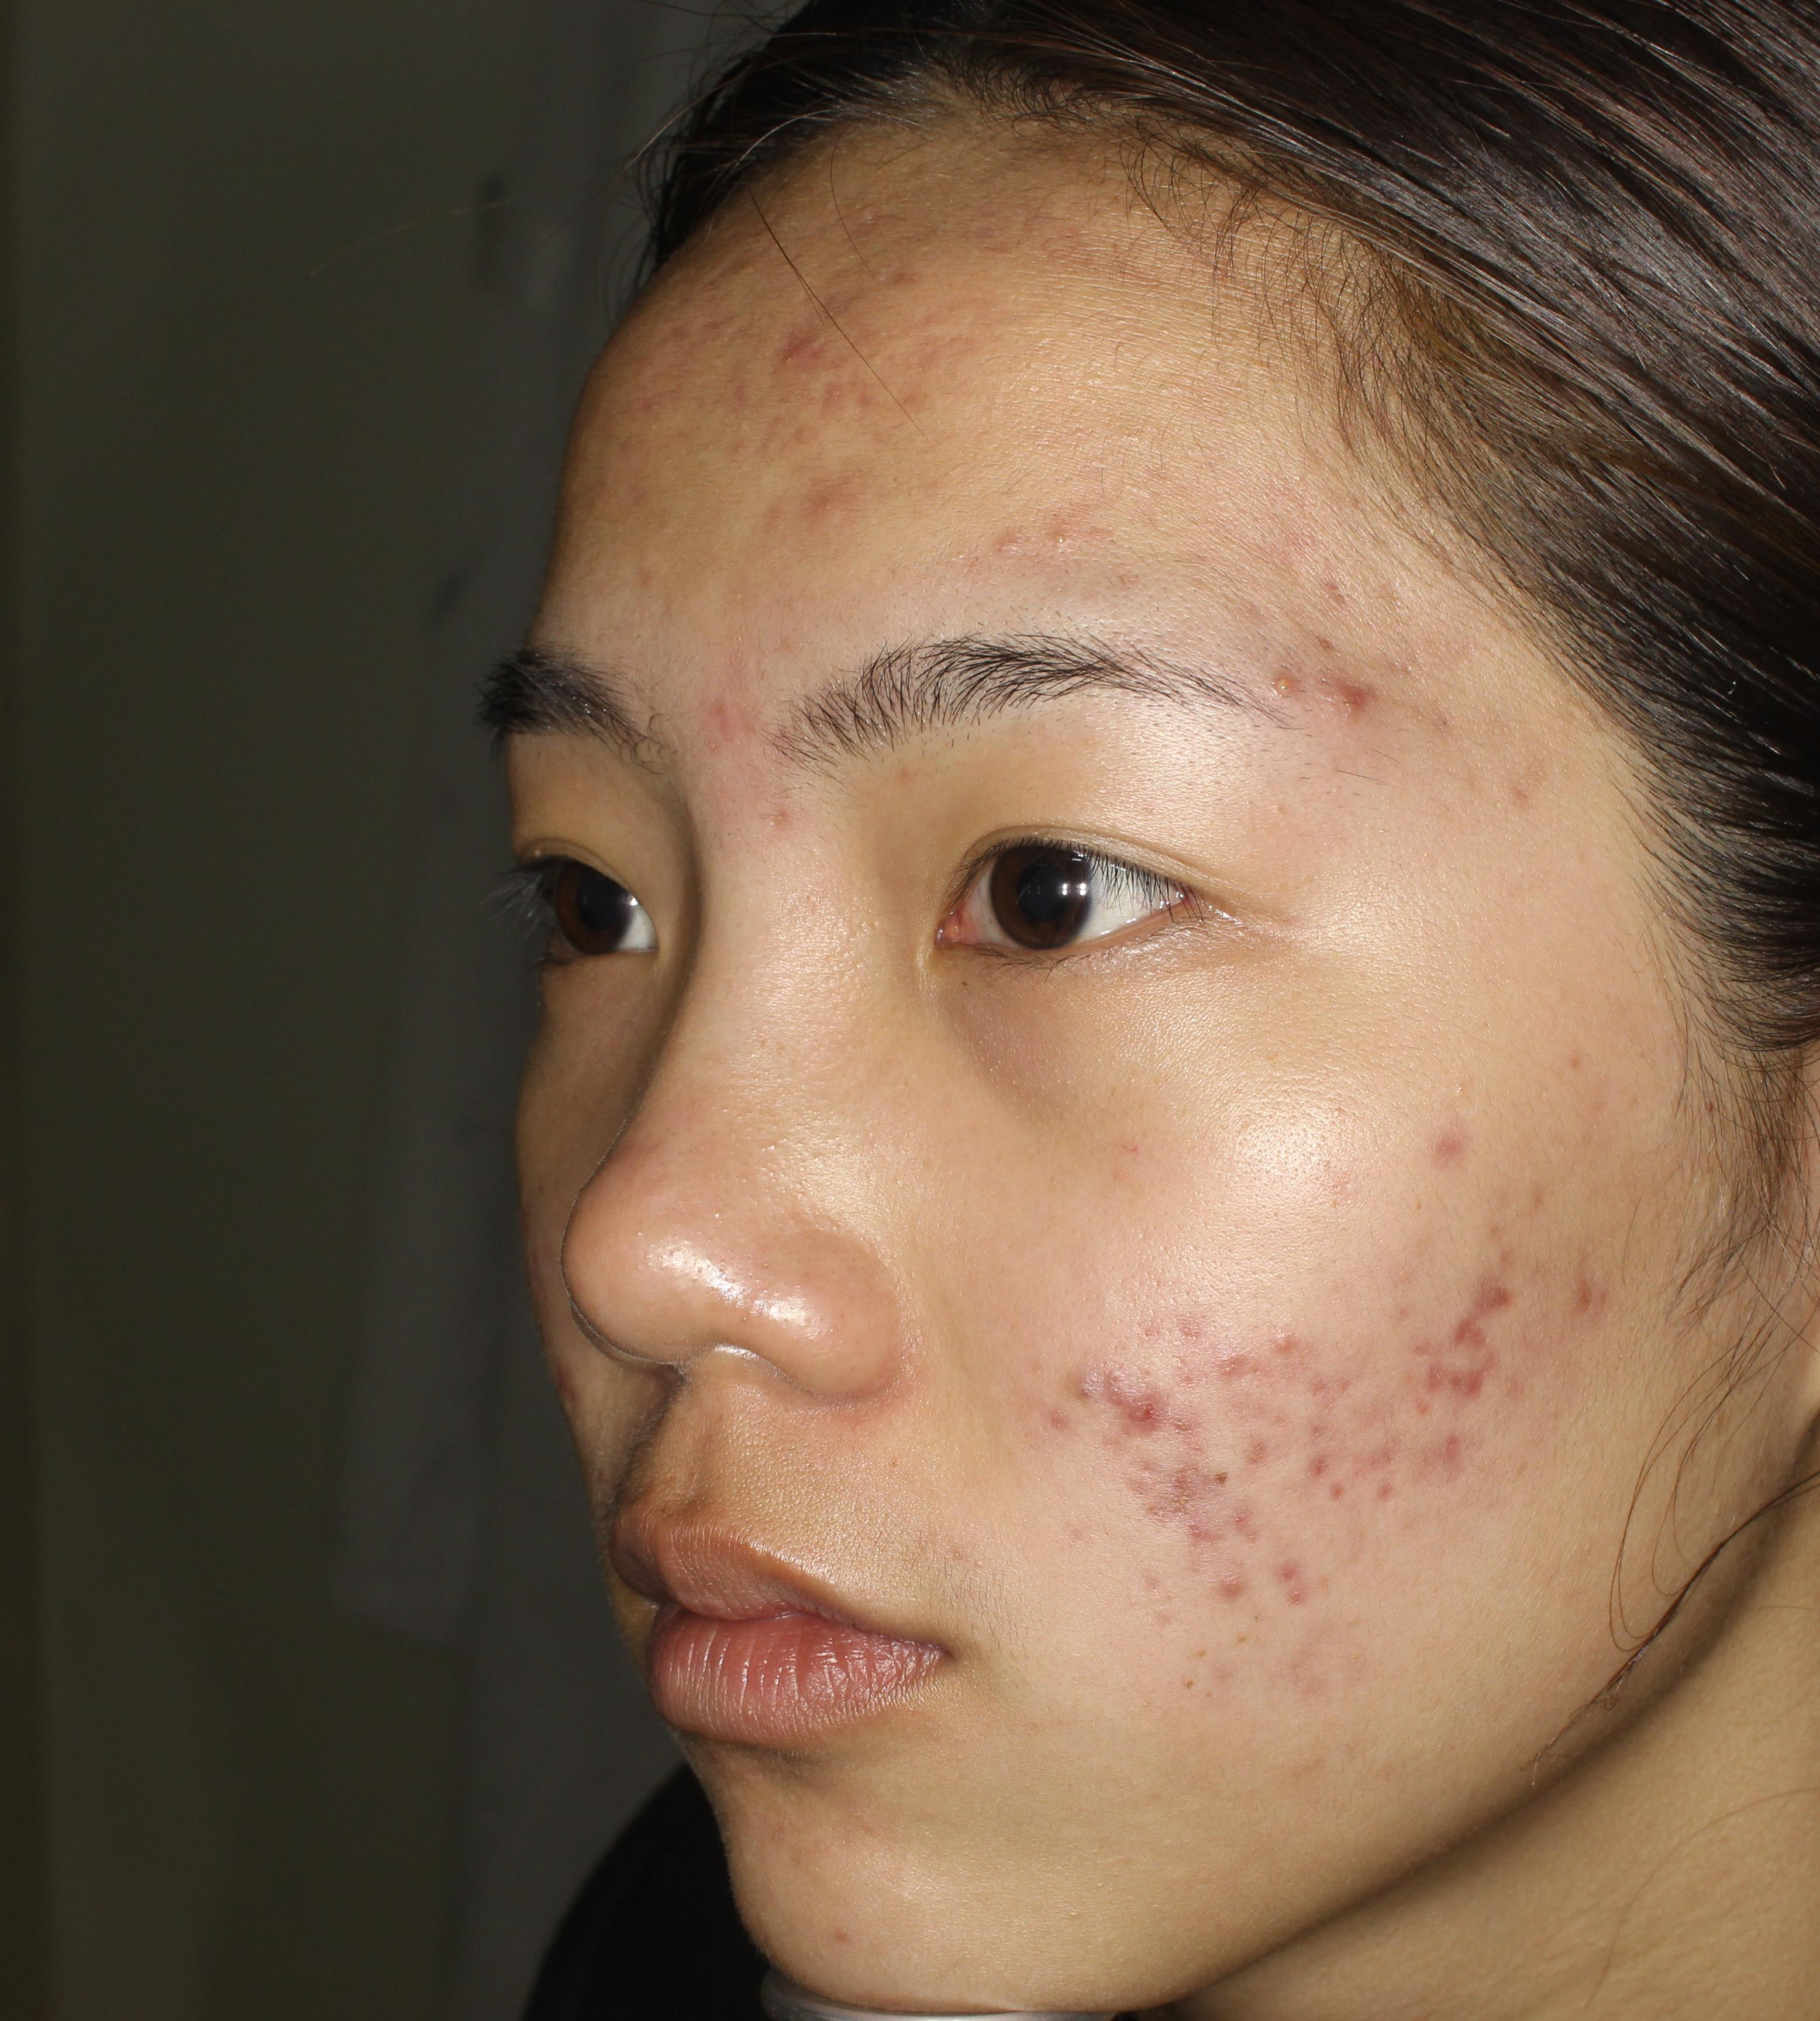fore: (1251, 1528, 1346, 1629), (1094, 1366, 1175, 1442), (1274, 1320, 1337, 1406), (1395, 1118, 1470, 1190), (1412, 1396, 1470, 1487), (1337, 1428, 1409, 1500), (1490, 1262, 1556, 1338), (1221, 1426, 1293, 1491), (1202, 1338, 1268, 1406), (993, 514, 1079, 567), (1412, 1352, 1490, 1410), (1323, 653, 1377, 734), (1562, 1277, 1627, 1338), (1044, 1356, 1101, 1424), (1131, 1473, 1228, 1514), (1256, 657, 1318, 713), (1300, 1428, 1354, 1491), (1449, 1306, 1502, 1370), (1179, 1508, 1242, 1557), (1216, 1540, 1256, 1589), (768, 348, 826, 370)
